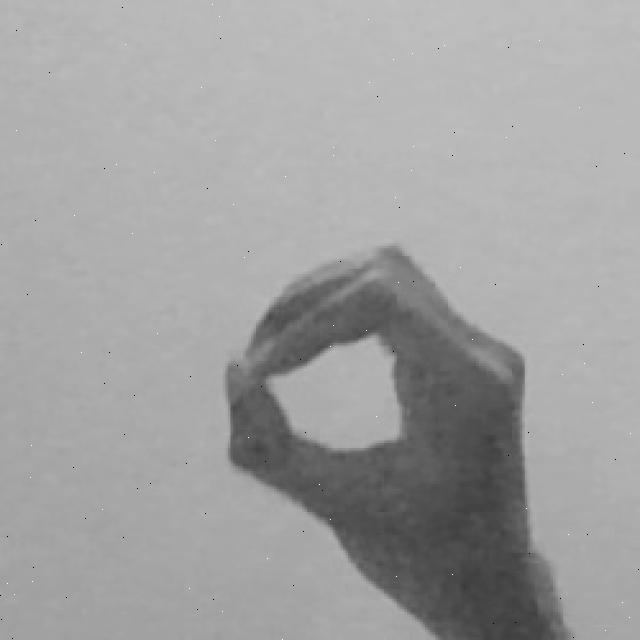O: (217, 235, 588, 640)
